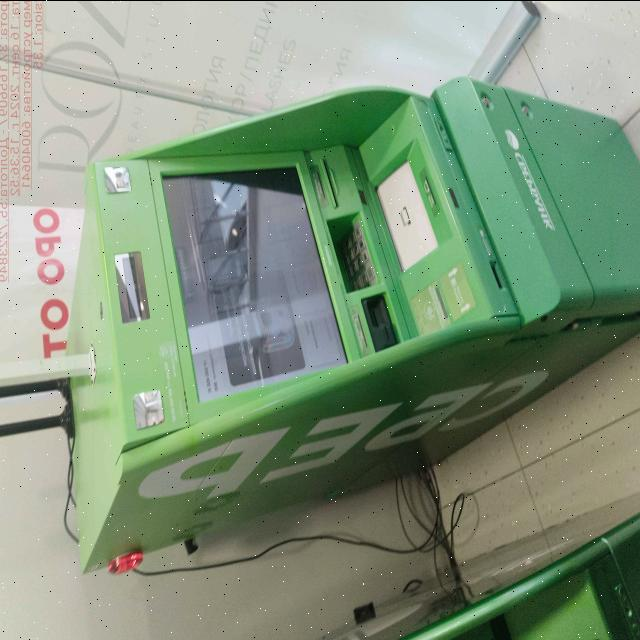bank: (61, 75, 640, 566)
